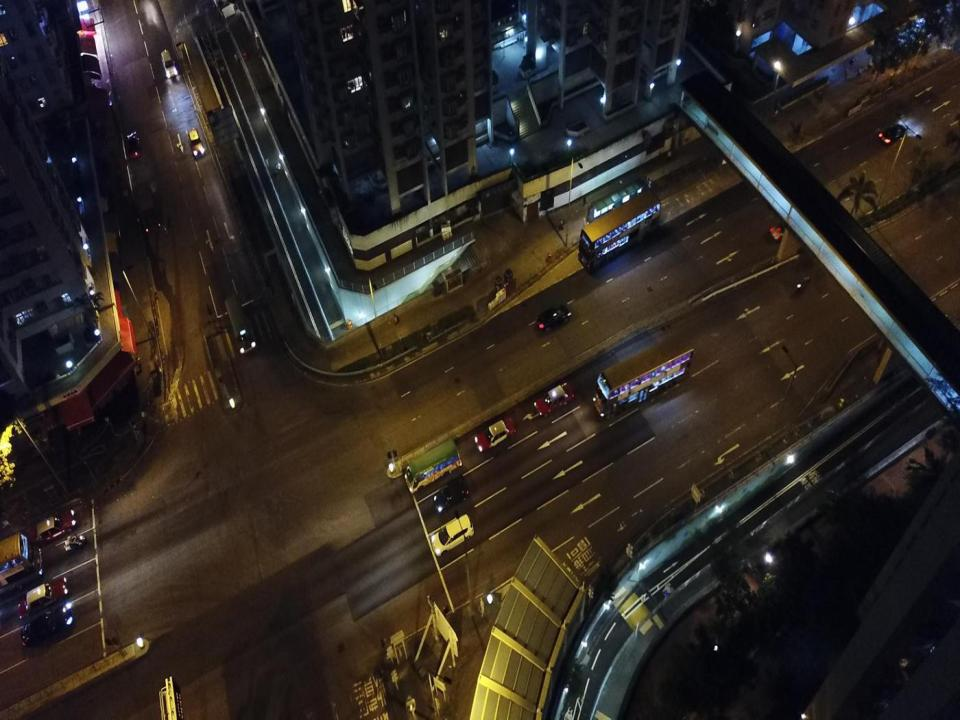bus: (592, 330, 696, 419), (577, 186, 662, 274), (0, 531, 44, 606), (404, 437, 462, 493)
car: (20, 601, 74, 648), (23, 506, 77, 551), (17, 574, 69, 618), (431, 514, 474, 556), (474, 415, 517, 453), (432, 474, 470, 516), (534, 381, 576, 418), (536, 302, 571, 334), (764, 217, 792, 244), (878, 124, 907, 146), (160, 49, 178, 78), (188, 128, 205, 158), (126, 131, 143, 160)
van: (224, 294, 257, 354)
